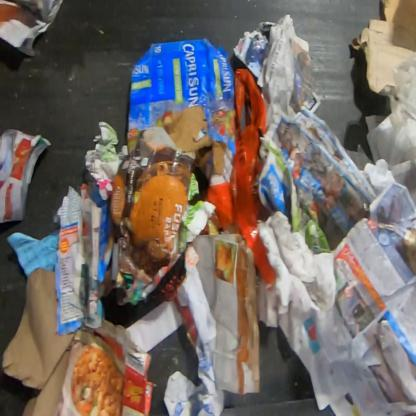cardboard: (98, 128, 195, 304), (126, 38, 236, 186), (2, 267, 77, 415), (55, 316, 155, 415), (350, 1, 416, 94)
soft_plastic: (204, 68, 277, 283), (387, 49, 415, 161)
